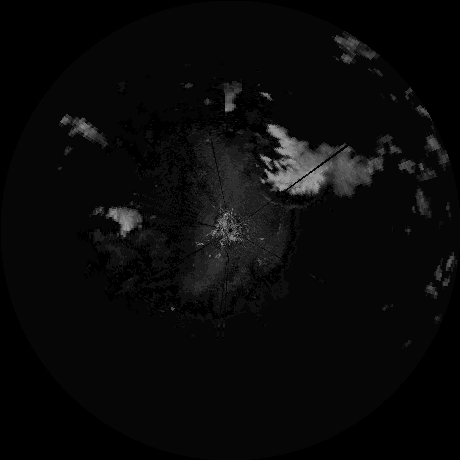frontgust: (258, 189, 307, 210)
